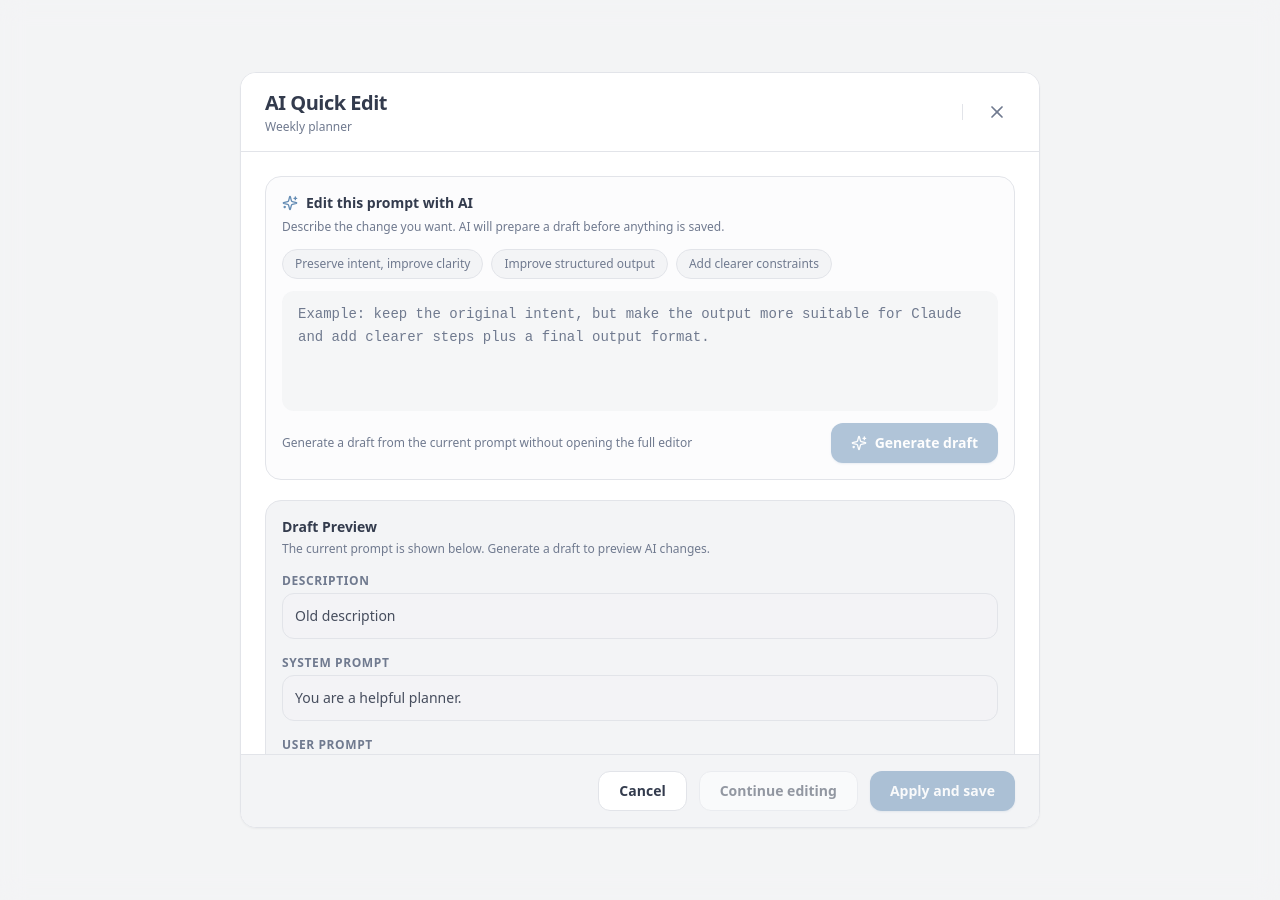
PromptQuickRewriteDialog › renders quick rewrite entry and previews generated draft
This screenshot has width=1280, height=900.
Expected: the heading "AI Quick Edit" is shown, left=265, top=89, right=387, bottom=116
Click the text box with placeholder "Example: keep the original intent, but make the output more suitable for Claude and add clearer steps plus a final outpu" at (640, 351), box left=282, top=291, right=998, bottom=411
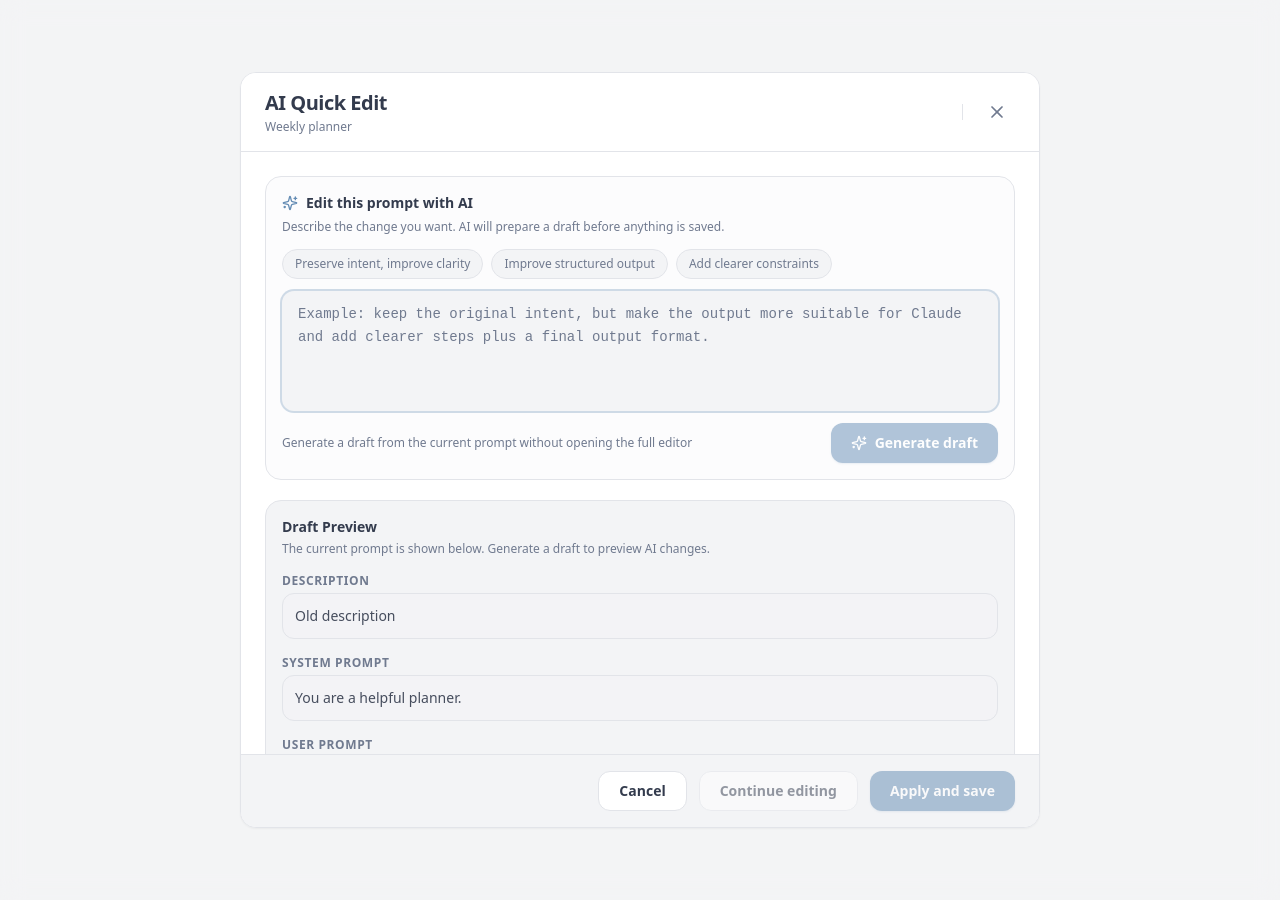
Type keys "Make it easier to scan."
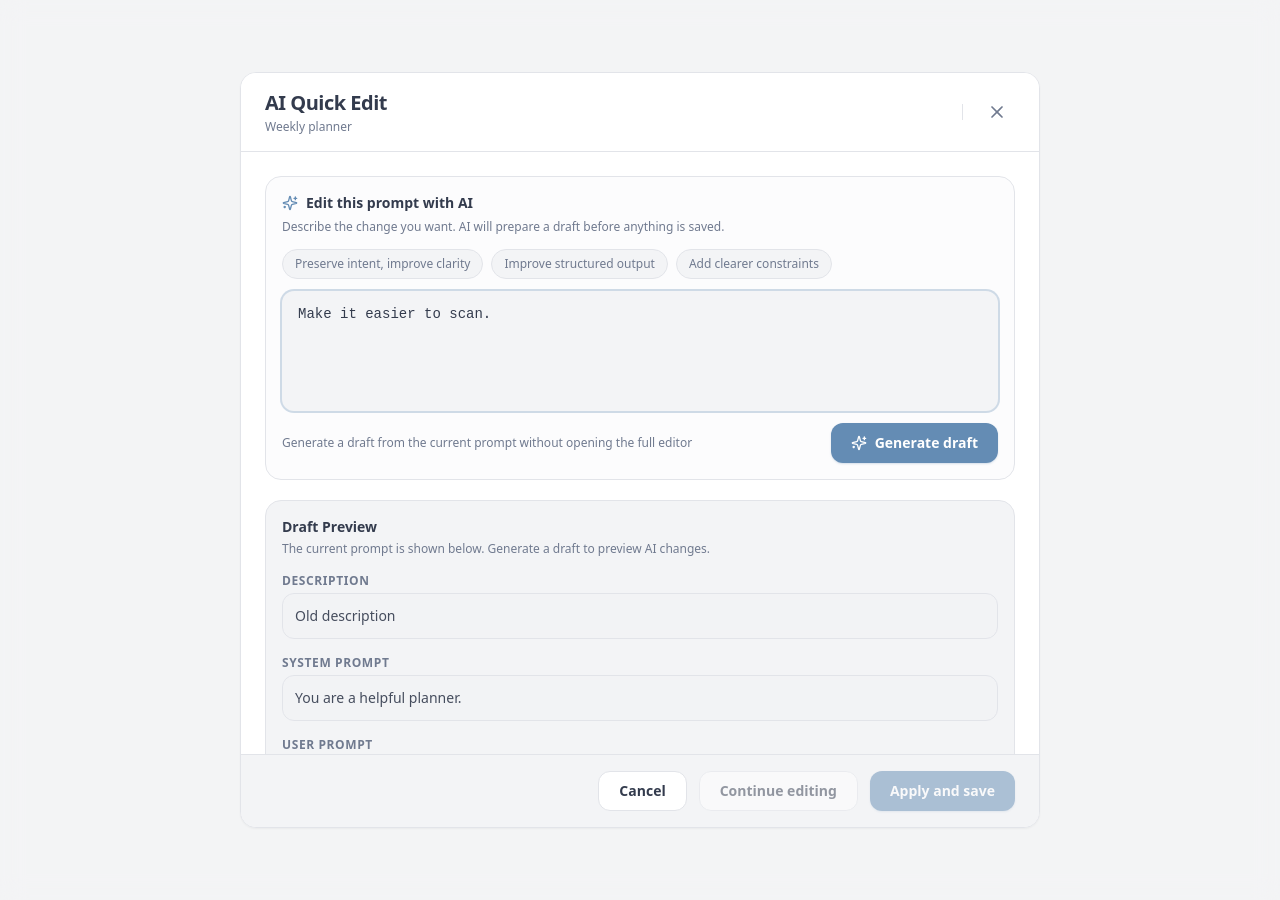
Click the button "Generate draft" at (914, 443), box left=831, top=423, right=998, bottom=463
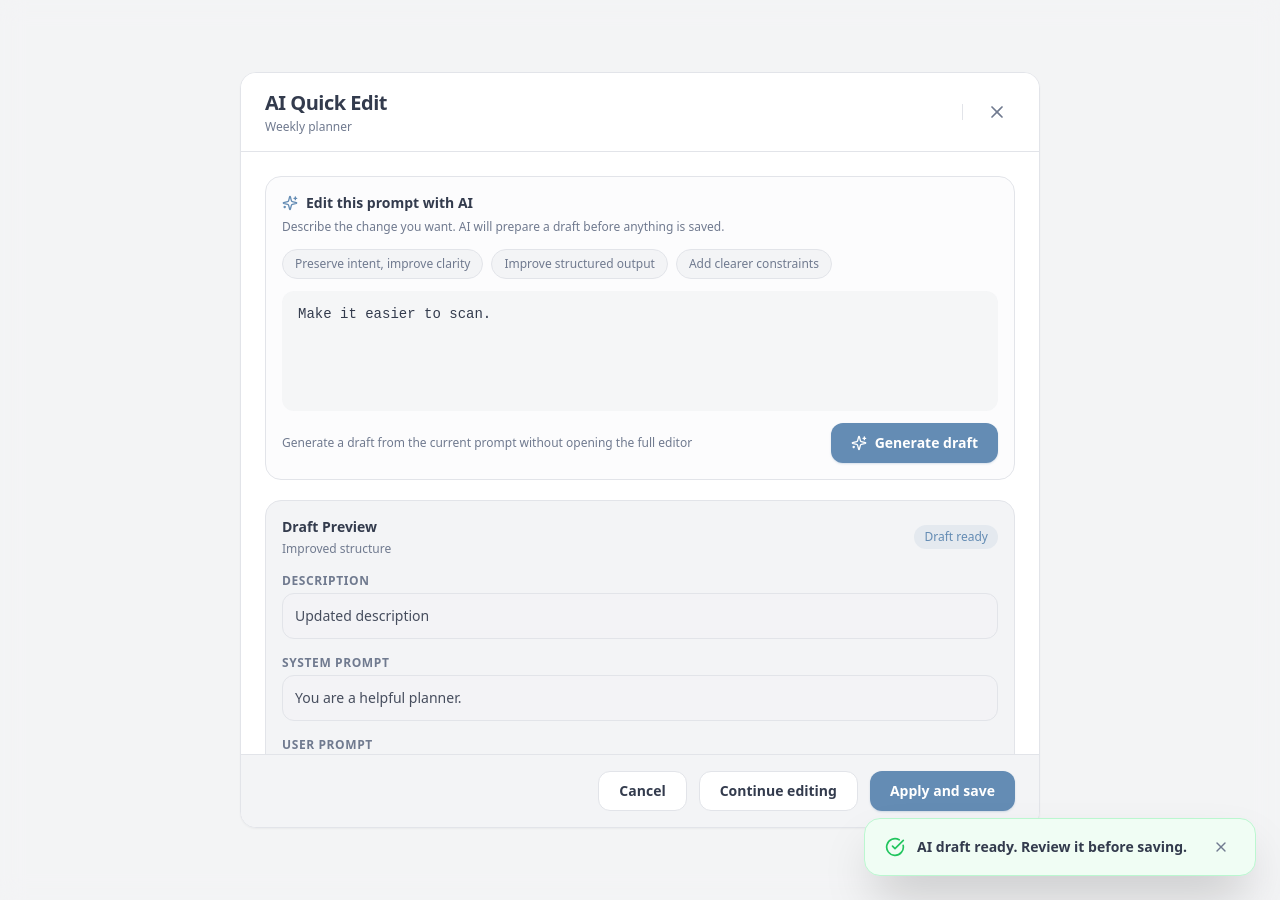
Result: the text "Improved structure" is shown at left=282, top=541, right=391, bottom=557
Result: the text "Draft ready" is shown at left=914, top=525, right=998, bottom=549
Result: the text "Updated description" is shown at left=282, top=593, right=998, bottom=639
